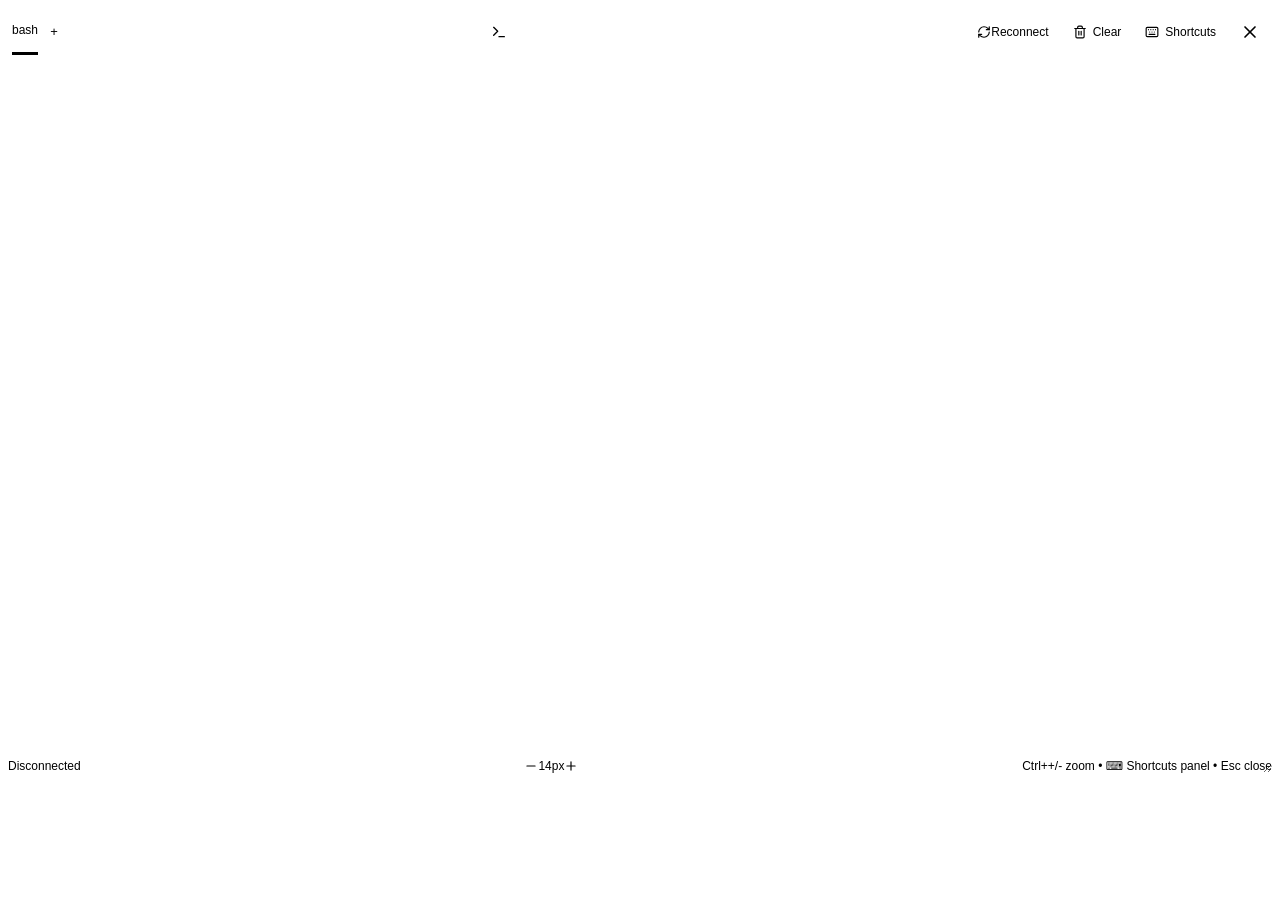
Test: TerminalModal › font size controls › decreases font size via button, persists, and refits xterm
This screenshot has width=1280, height=900.
Expected: the text with test id "terminal-font-size-value" reads "14px", [538, 759, 564, 773]
Click the button with test id "terminal-font-size-decrease" at (531, 766), box [524, 759, 538, 773]
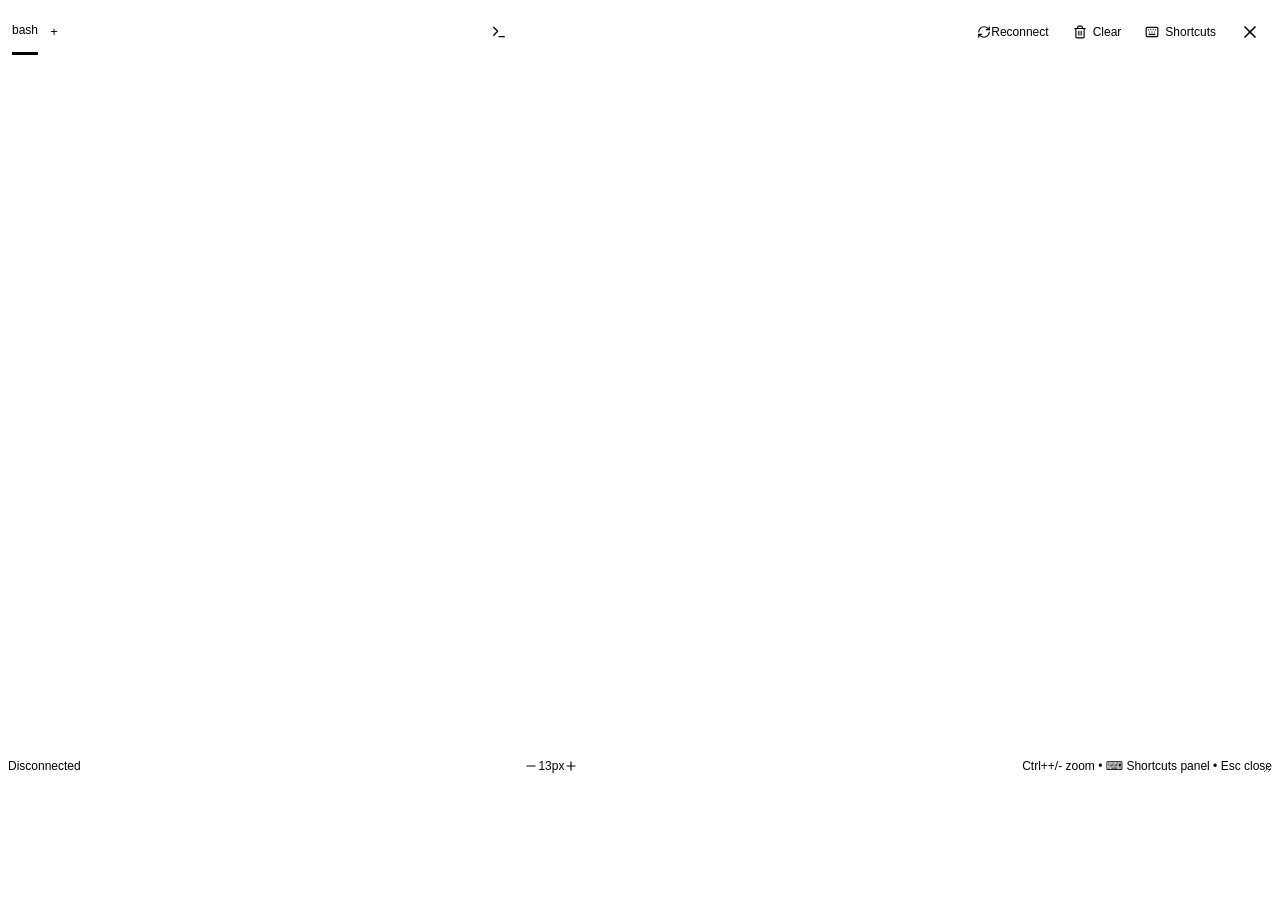
Expected: the text with test id "terminal-font-size-value" reads "13px", [538, 759, 564, 773]
